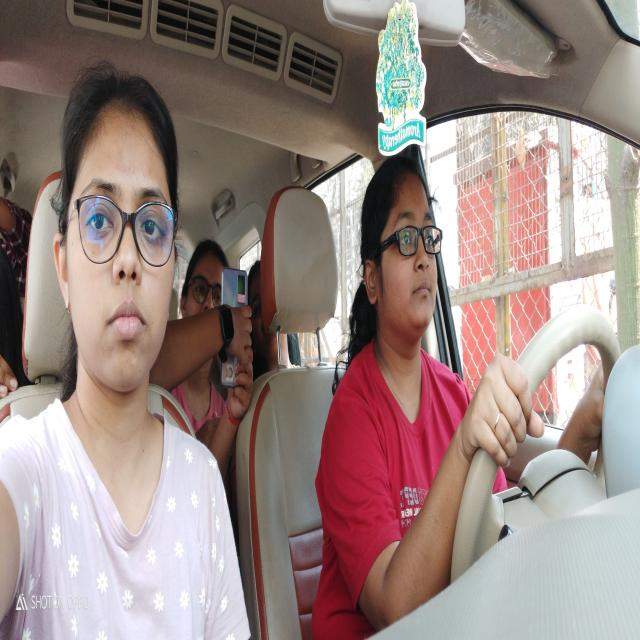person: (59, 69, 179, 431), (178, 234, 234, 346)
